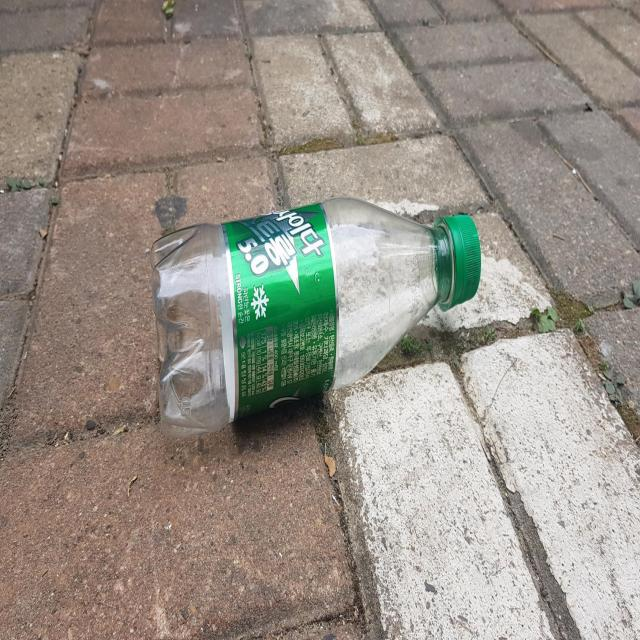plastic: (150, 197, 482, 437)
